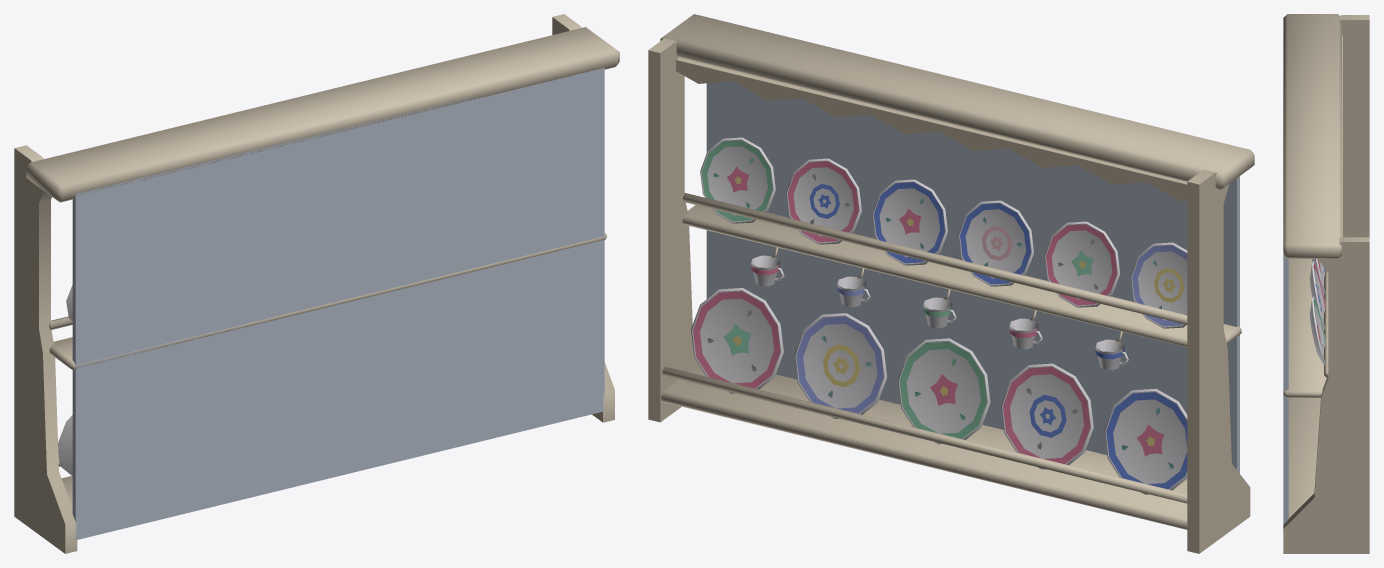
The model's file is plate_rack_wall.glb.
3 renders of one model, left to right at view 1: azimuth 30°, elevation 25°; view 2: azimuth 150°, elevation 25°; view 3: azimuth 270°, elevation 25°, orthographic. The views are drawn at different scales.
Parts seen in each view (by area): view 1: plate_rack_wall; view 2: plate_rack_wall; view 3: plate_rack_wall.
Part boxes in pixels (box(x1,y1,x2,y2)): plate_rack_wall: box(14, 14, 619, 553); plate_rack_wall: box(648, 14, 1254, 553); plate_rack_wall: box(1283, 14, 1369, 553).
Size of what is drawn, in the model's own units: 1.6 by 1 by 0.25.
